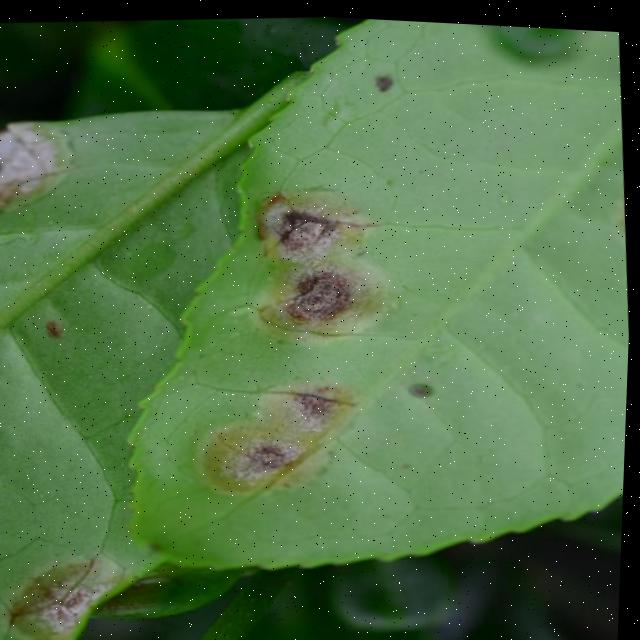Tea cake: (257, 169, 369, 273), (13, 546, 129, 640), (191, 406, 304, 502), (254, 258, 388, 334), (262, 371, 348, 436)
